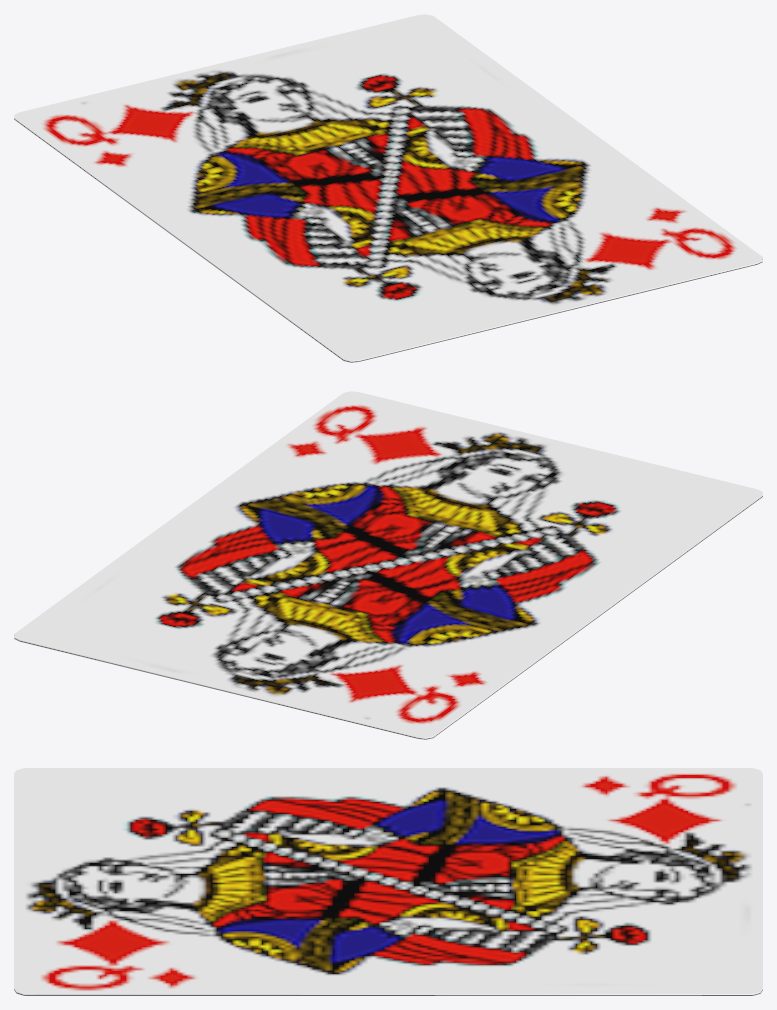
The model's file is Diamond_Q.fbx.
3 views of the same model, one above another, from view 1: azimuth 30°, elevation 25°; view 2: azimuth 150°, elevation 25°; view 3: azimuth 270°, elevation 25° (orthographic). The views are drawn at different scales.
Parts seen in each view (by area): view 1: Diamond_Q; view 2: Diamond_Q; view 3: Diamond_Q.
Boxes of the visible parts, left/top/right/bottom form: Diamond_Q: left=14, top=14, right=762, bottom=362; Diamond_Q: left=14, top=391, right=762, bottom=739; Diamond_Q: left=14, top=768, right=762, bottom=995.
Bounding box in the file's own units: 6.35 × 0.0239 × 8.89.
